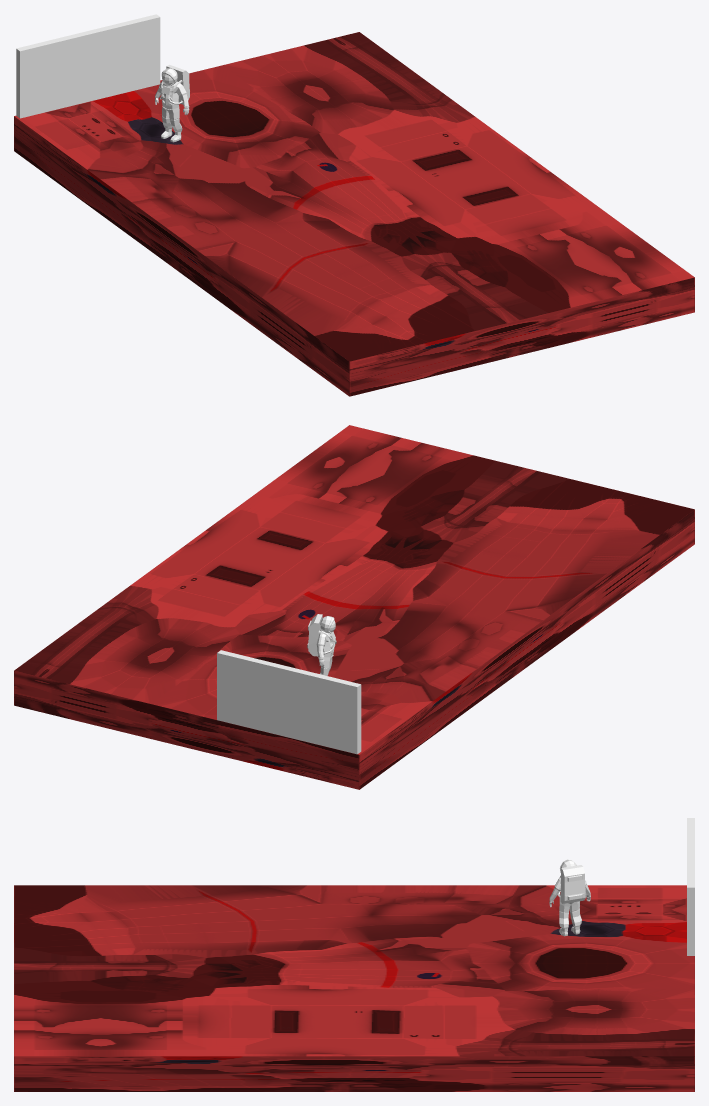
The model's file is received_model.gltf.
The picture shows the model from 3 angles, top to bottom: view 1: azimuth 30°, elevation 25°; view 2: azimuth 150°, elevation 25°; view 3: azimuth 270°, elevation 25°; orthographic projection.
Parts seen in each view (by area): view 1: Cube, Wall, Astronautglb; view 2: Cube, Wall, Astronautglb; view 3: Cube, Astronautglb, Wall.
Part boxes in pixels (bbox=[...]): Cube: bbox=[14, 32, 694, 396]; Wall: bbox=[16, 14, 160, 118]; Astronautglb: bbox=[155, 64, 189, 142]; Cube: bbox=[14, 425, 694, 789]; Wall: bbox=[217, 650, 361, 754]; Astronautglb: bbox=[307, 614, 336, 675]; Cube: bbox=[14, 885, 694, 1091]; Astronautglb: bbox=[549, 859, 590, 936]; Wall: bbox=[687, 818, 694, 955].
Bounding box in the file's own units: 10.35 × 3.01 × 17.41.
3 materials, 1 textured.
